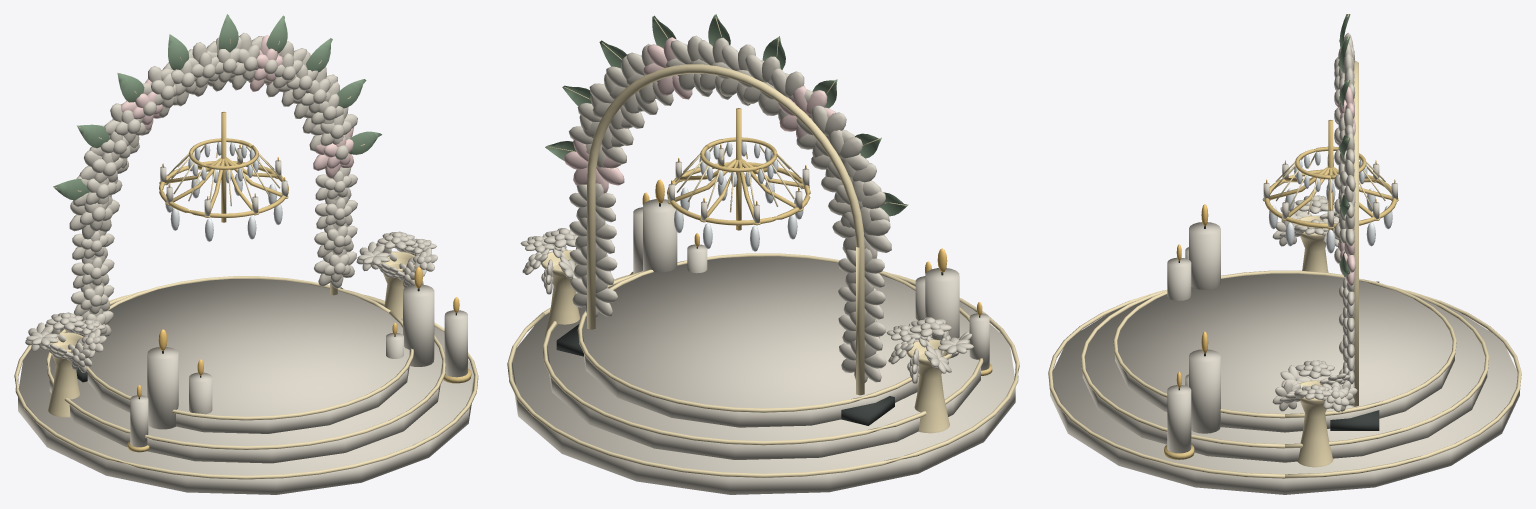
The model's file is scene-wedding-portal.glb.
3 views of the same model, side by side, from view 1: azimuth 30°, elevation 25°; view 2: azimuth 150°, elevation 25°; view 3: azimuth 270°, elevation 25° (orthographic). The views are drawn at different scales.
Visible parts, largest first — view 1: stage-0, petals-8, wax-10, gold-trims-1, leaf-6, heart-5, frame-9, vase-16, petals-4, crystals-14, chains-15, flame-13; view 2: stage-0, petals-8, gold-trims-1, wax-10, arch-frame-2, frame-9, vase-16, petals-4, leaf-6, crystals-14, feet-3, chains-15 (+1 smaller); view 3: stage-0, gold-trims-1, wax-10, petals-8, vase-16, frame-9, crystals-14, arch-frame-2, heart-5, leaf-6, petals-4, feet-3 (+1 smaller).
Boxes of the visible parts, x1,y1,x2,y2 form: stage-0: (18,279,474,494); petals-8: (25,32,437,372); wax-10: (130,148,467,447); gold-trims-1: (14,276,478,479); leaf-6: (53,14,381,200); heart-5: (40,56,424,363); frame-9: (159,112,288,222); vase-16: (48,251,414,417); petals-4: (121,35,353,178); crystals-14: (165,142,282,241); chains-15: (166,144,281,206); flame-13: (137,144,459,397); stage-0: (512,256,1015,494); petals-8: (520,35,973,383); gold-trims-1: (507,253,1019,477); wax-10: (633,148,989,370); arch-frame-2: (587,64,864,395); frame-9: (667,108,810,230); vase-16: (541,250,951,433); petals-4: (563,37,835,193); leaf-6: (545,14,908,216); crystals-14: (674,141,803,251); feet-3: (556,324,894,425); chains-15: (675,144,802,212); stage-0: (1050,273,1519,494); gold-trims-1: (1048,270,1521,478); wax-10: (1167,157,1397,453); petals-8: (1272,33,1357,412); vase-16: (1297,215,1333,467); frame-9: (1264,120,1396,230); crystals-14: (1268,151,1392,253); arch-frame-2: (1351,60,1358,406); heart-5: (1291,57,1347,398); leaf-6: (1340,14,1350,276); petals-4: (1338,37,1355,286); feet-3: (1330,281,1379,430).
Size of the model in its own units: 3.95 by 3.35 by 3.93.
